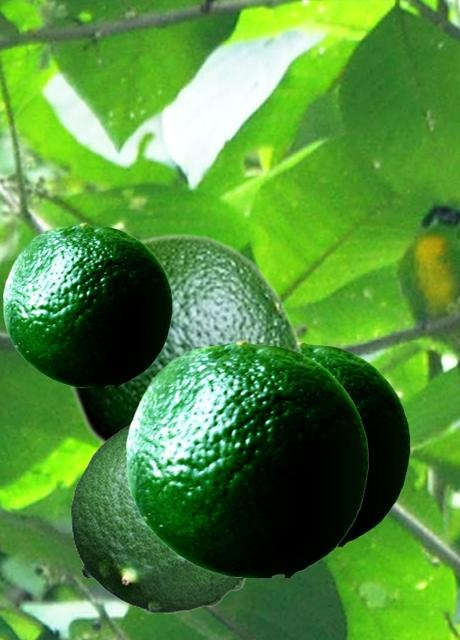calamansi: (126, 339, 367, 576), (66, 232, 302, 444), (70, 422, 249, 612), (3, 222, 171, 386), (300, 340, 409, 545)
